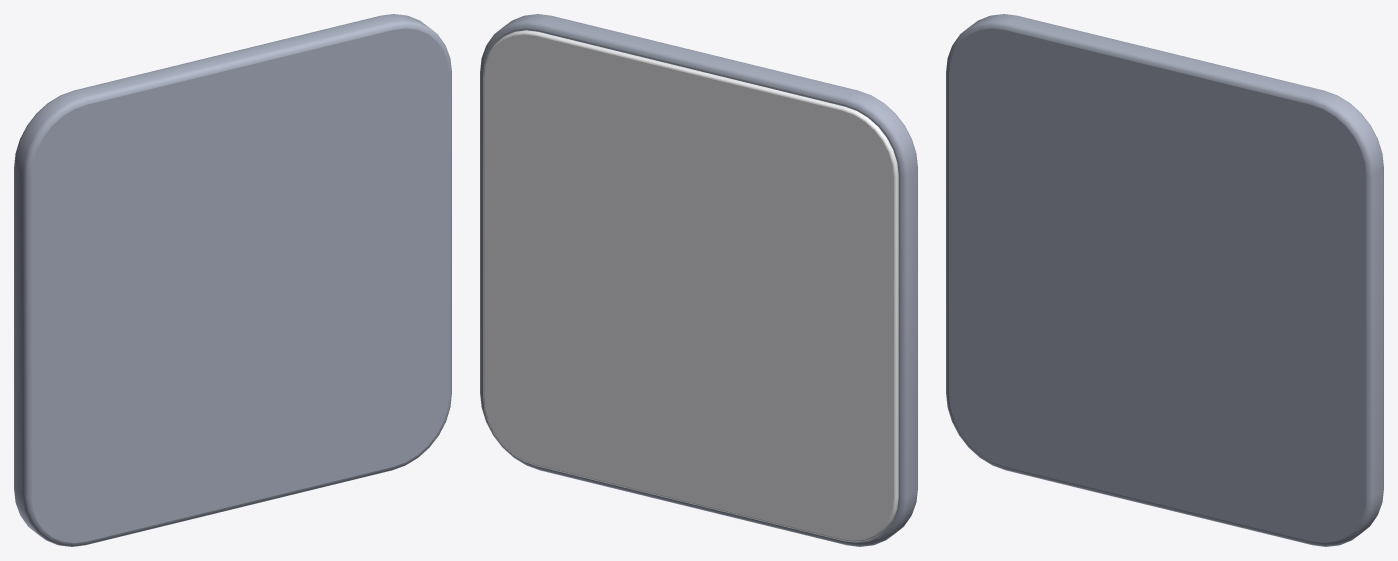
The model's file is 40-nodeworks-empty-box.glb.
The picture shows the model from 3 angles, left to right: view 1: azimuth 30°, elevation 25°; view 2: azimuth 150°, elevation 25°; view 3: azimuth 330°, elevation 25°; orthographic projection.
Parts seen in each view (by area): view 1: rounded_gray_checkbox_outline; view 2: plain_white_checkbox_inset, rounded_gray_checkbox_outline; view 3: rounded_gray_checkbox_outline.
Boxes of the visible parts, <box> form: rounded_gray_checkbox_outline: <box>14,14,451,546</box>; plain_white_checkbox_inset: <box>483,30,898,542</box>; rounded_gray_checkbox_outline: <box>480,14,917,546</box>; rounded_gray_checkbox_outline: <box>946,14,1383,546</box>.
Bounding box in the file's own units: 0.12 × 0.12 × 0.0083.
